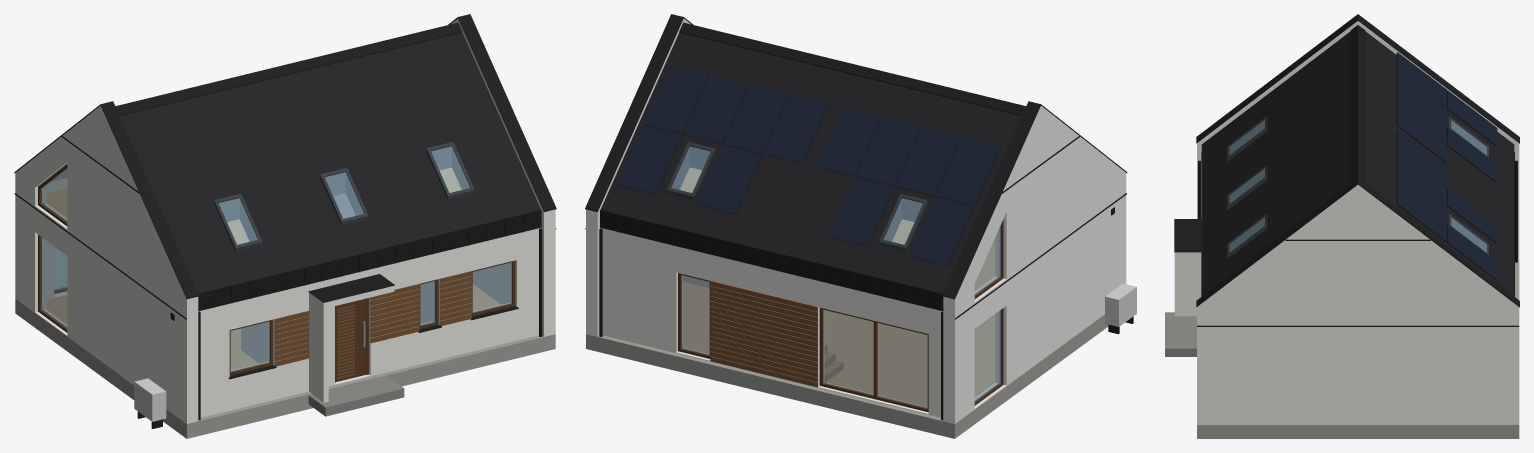
The model's file is dom_smart_comfort_braz.obj.
3 renders of one model, left to right at view 1: azimuth 30°, elevation 25°; view 2: azimuth 150°, elevation 25°; view 3: azimuth 270°, elevation 25°, orthographic. The views are drawn at different scales.
Parts seen in each view (by area): view 1: Dach_–_połać_frontowa, Ściana_szczytowa_lewa, Ściana_frontowa, Płyta_fundamentowa, Pas_okapowy_frontowy, Deska_elewacyjna_–_front, O1_<O1_okno_130x130>, Gąsior, Ściana_szczytowa_prawa, Opierzenie_ściany_szczytowej_lewej, Opierzenie_ściany_szczytowej_prawej, DZ_<DZ_drzwi_zewnętrzne_90x210> (+17 smaller); view 2: Dach_–_połać_ogrodowa, Instalacja_fotowoltaiczna, Ściana_szczytowa_lewa, Ściana_ogrodowa, Posadzka_parteru, Płyta_fundamentowa, Deska_elewacyjna_–_ogród, Ot1_<Ot1_okno_przesuwne_HS_320x220>, Pas_okapowy_ogrodowy, Gąsior, Opierzenie_ściany_szczytowej_lewej, Opierzenie_ściany_szczytowej_prawej (+8 smaller); view 3: Ściana_szczytowa_prawa, Dach_–_połać_frontowa, Instalacja_fotowoltaiczna, Dach_–_połać_ogrodowa, Płyta_fundamentowa, Gąsior, Opierzenie_ściany_szczytowej_prawej, Opierzenie_ściany_szczytowej_lewej, Ściana_szczytowa_lewa, Zadaszenie_–_ścianka_boczna, Podest_wejściowy, Zadaszenie_–_obróbka (+6 smaller).
Boxes of the visible parts, x1,y1,x2,y2 form: Dach_–_połać_frontowa: (120,32,540,293); Ściana_szczytowa_lewa: (15,106,198,423); Ściana_frontowa: (198,228,540,417); Płyta_fundamentowa: (15,286,555,438); Pas_okapowy_frontowy: (198,210,541,311); Deska_elewacyjna_–_front: (275,271,471,366); O1_<O1_okno_130x130>: (229,260,515,375); Gąsior: (115,22,462,115); Ściana_szczytowa_prawa: (451,18,555,336); Opierzenie_ściany_szczytowej_lewej: (14,101,199,299); Opierzenie_ściany_szczytowej_prawej: (448,14,556,211); DZ_<DZ_drzwi_zewnętrzne_90x210>: (335,298,368,382); Dach_–_połać_ogrodowa: (600,32,1021,293); Instalacja_fotowoltaiczna: (616,65,1000,265); Ściana_szczytowa_lewa: (943,106,1126,423); Ściana_ogrodowa: (601,228,942,417); Posadzka_parteru: (683,282,994,406); Płyta_fundamentowa: (586,314,1108,438); Deska_elewacyjna_–_ogród: (710,281,817,387); Ot1_<Ot1_okno_przesuwne_HS_320x220>: (819,307,928,412); Pas_okapowy_ogrodowy: (600,210,943,311); Gąsior: (679,22,1025,115); Opierzenie_ściany_szczytowej_lewej: (942,101,1127,299); Opierzenie_ściany_szczytowej_prawej: (585,14,693,211); Ściana_szczytowa_prawa: (1197,185,1519,424); Dach_–_połać_frontowa: (1202,31,1350,295); Instalacja_fotowoltaiczna: (1396,52,1497,280); Dach_–_połać_ogrodowa: (1365,32,1513,295); Płyta_fundamentowa: (1197,261,1519,438); Gąsior: (1350,25,1365,183); Opierzenie_ściany_szczytowej_prawej: (1196,178,1519,307); Opierzenie_ściany_szczytowej_lewej: (1196,14,1519,143); Ściana_szczytowa_lewa: (1197,21,1519,261); Zadaszenie_–_ścianka_boczna: (1174,258,1201,316); Podest_wejściowy: (1165,312,1196,356); Zadaszenie_–_obróbka: (1174,219,1201,252).
Size of what is drawn, in the model's own units: 11.34 by 7.52 by 9.46.
